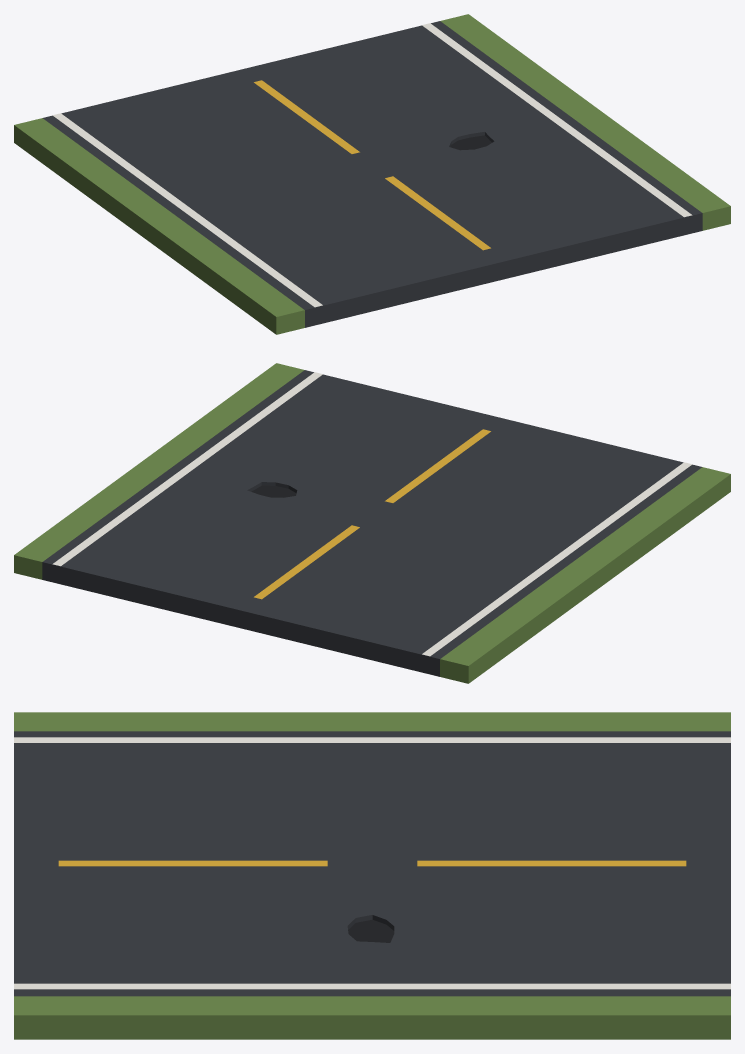
The model's file is Road_2Lane_NoSidewalk_Straight_8m_Pothole_Small.glb.
The picture shows the model from 3 angles, top to bottom: view 1: azimuth 30°, elevation 25°; view 2: azimuth 150°, elevation 25°; view 3: azimuth 270°, elevation 25°; orthographic projection. The views are drawn at different scales.
Visible parts, largest first — view 1: Road_2Lane_NoSidewalk_Straight_8m_Pothole_Small_Asphalt, Road_2Lane_NoSidewalk_Straight_8m_Pothole_Small_Grass-edge, Road_2Lane_NoSidewalk_Straight_8m_Pothole_Small_PaintWhite, Road_2Lane_NoSidewalk_Straight_8m_Pothole_Small_PaintYellow; view 2: Road_2Lane_NoSidewalk_Straight_8m_Pothole_Small_Asphalt, Road_2Lane_NoSidewalk_Straight_8m_Pothole_Small_Grass-edge, Road_2Lane_NoSidewalk_Straight_8m_Pothole_Small_PaintWhite, Road_2Lane_NoSidewalk_Straight_8m_Pothole_Small_PaintYellow; view 3: Road_2Lane_NoSidewalk_Straight_8m_Pothole_Small_Asphalt, Road_2Lane_NoSidewalk_Straight_8m_Pothole_Small_Grass-edge, Road_2Lane_NoSidewalk_Straight_8m_Pothole_Small_PaintWhite, Road_2Lane_NoSidewalk_Straight_8m_Pothole_Small_PaintYellow, Road_2Lane_NoSidewalk_Straight_8m_Pothole_Small_Rubber.
Part boxes in pixels (x1,y1,x2,y2): Road_2Lane_NoSidewalk_Straight_8m_Pothole_Small_Asphalt: (43, 21, 702, 327); Road_2Lane_NoSidewalk_Straight_8m_Pothole_Small_Grass-edge: (14, 14, 730, 334); Road_2Lane_NoSidewalk_Straight_8m_Pothole_Small_PaintWhite: (53, 23, 692, 307); Road_2Lane_NoSidewalk_Straight_8m_Pothole_Small_PaintYellow: (254, 80, 490, 250); Road_2Lane_NoSidewalk_Straight_8m_Pothole_Small_Asphalt: (42, 370, 701, 676); Road_2Lane_NoSidewalk_Straight_8m_Pothole_Small_Grass-edge: (14, 363, 730, 683); Road_2Lane_NoSidewalk_Straight_8m_Pothole_Small_PaintWhite: (52, 372, 691, 656); Road_2Lane_NoSidewalk_Straight_8m_Pothole_Small_PaintYellow: (254, 429, 490, 599); Road_2Lane_NoSidewalk_Straight_8m_Pothole_Small_Asphalt: (14, 731, 730, 996); Road_2Lane_NoSidewalk_Straight_8m_Pothole_Small_Grass-edge: (14, 712, 730, 1039); Road_2Lane_NoSidewalk_Straight_8m_Pothole_Small_PaintWhite: (14, 737, 730, 989); Road_2Lane_NoSidewalk_Straight_8m_Pothole_Small_PaintYellow: (58, 860, 686, 866); Road_2Lane_NoSidewalk_Straight_8m_Pothole_Small_Rubber: (348, 919, 394, 942).
Bounding box in the file's own units: 8 × 0.305 × 8.
